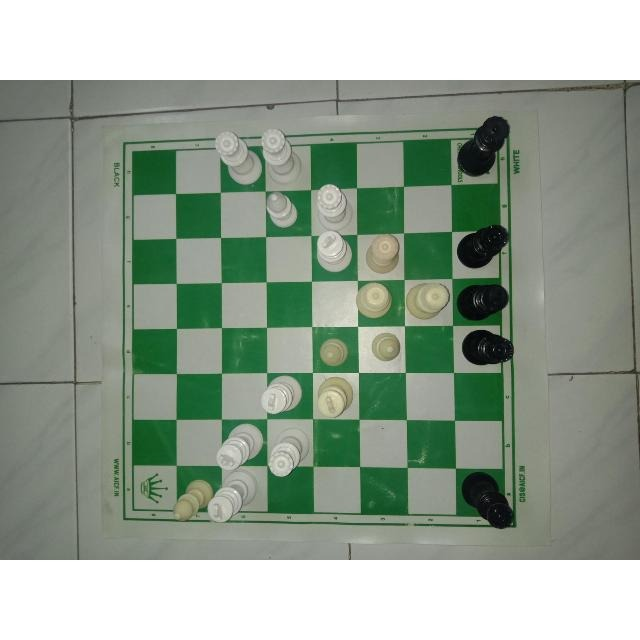black-king: (454, 275, 512, 325)
black-queen: (454, 112, 512, 180), (458, 468, 515, 532), (452, 222, 513, 270), (454, 331, 517, 367)
white-bishop: (172, 470, 210, 524), (264, 190, 301, 227), (316, 332, 352, 370), (369, 330, 409, 362)
white-king: (209, 473, 261, 525), (213, 420, 264, 470), (259, 374, 304, 415), (316, 373, 355, 419), (315, 230, 355, 273)
white-queen: (263, 127, 309, 189), (212, 129, 261, 185), (266, 424, 312, 478), (405, 281, 451, 323), (317, 182, 355, 230), (354, 278, 394, 321), (364, 231, 402, 273)
